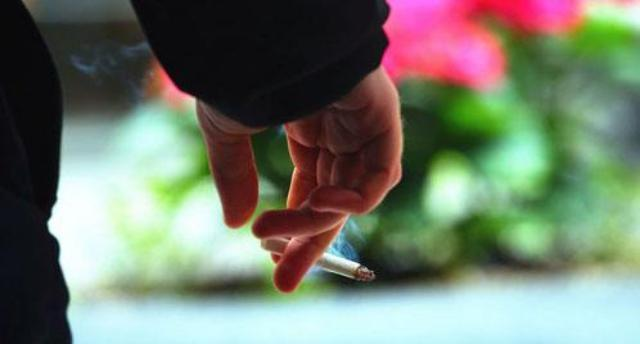Smoking: (264, 235, 382, 285)
